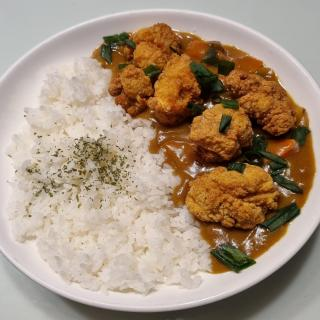carbs: (4, 63, 110, 296), (110, 113, 152, 300), (152, 154, 192, 299), (192, 227, 211, 276)
fried_chicken_rice: (0, 21, 320, 302)
meat: (229, 68, 302, 133), (194, 168, 270, 227), (193, 104, 246, 159), (163, 65, 198, 120), (134, 27, 180, 65), (118, 67, 149, 113)
veg: (247, 133, 306, 169), (193, 62, 226, 100), (212, 244, 254, 271), (98, 32, 132, 62), (273, 168, 305, 194), (206, 41, 231, 74), (270, 206, 298, 230), (146, 65, 160, 81), (221, 113, 230, 134), (224, 101, 238, 110)
